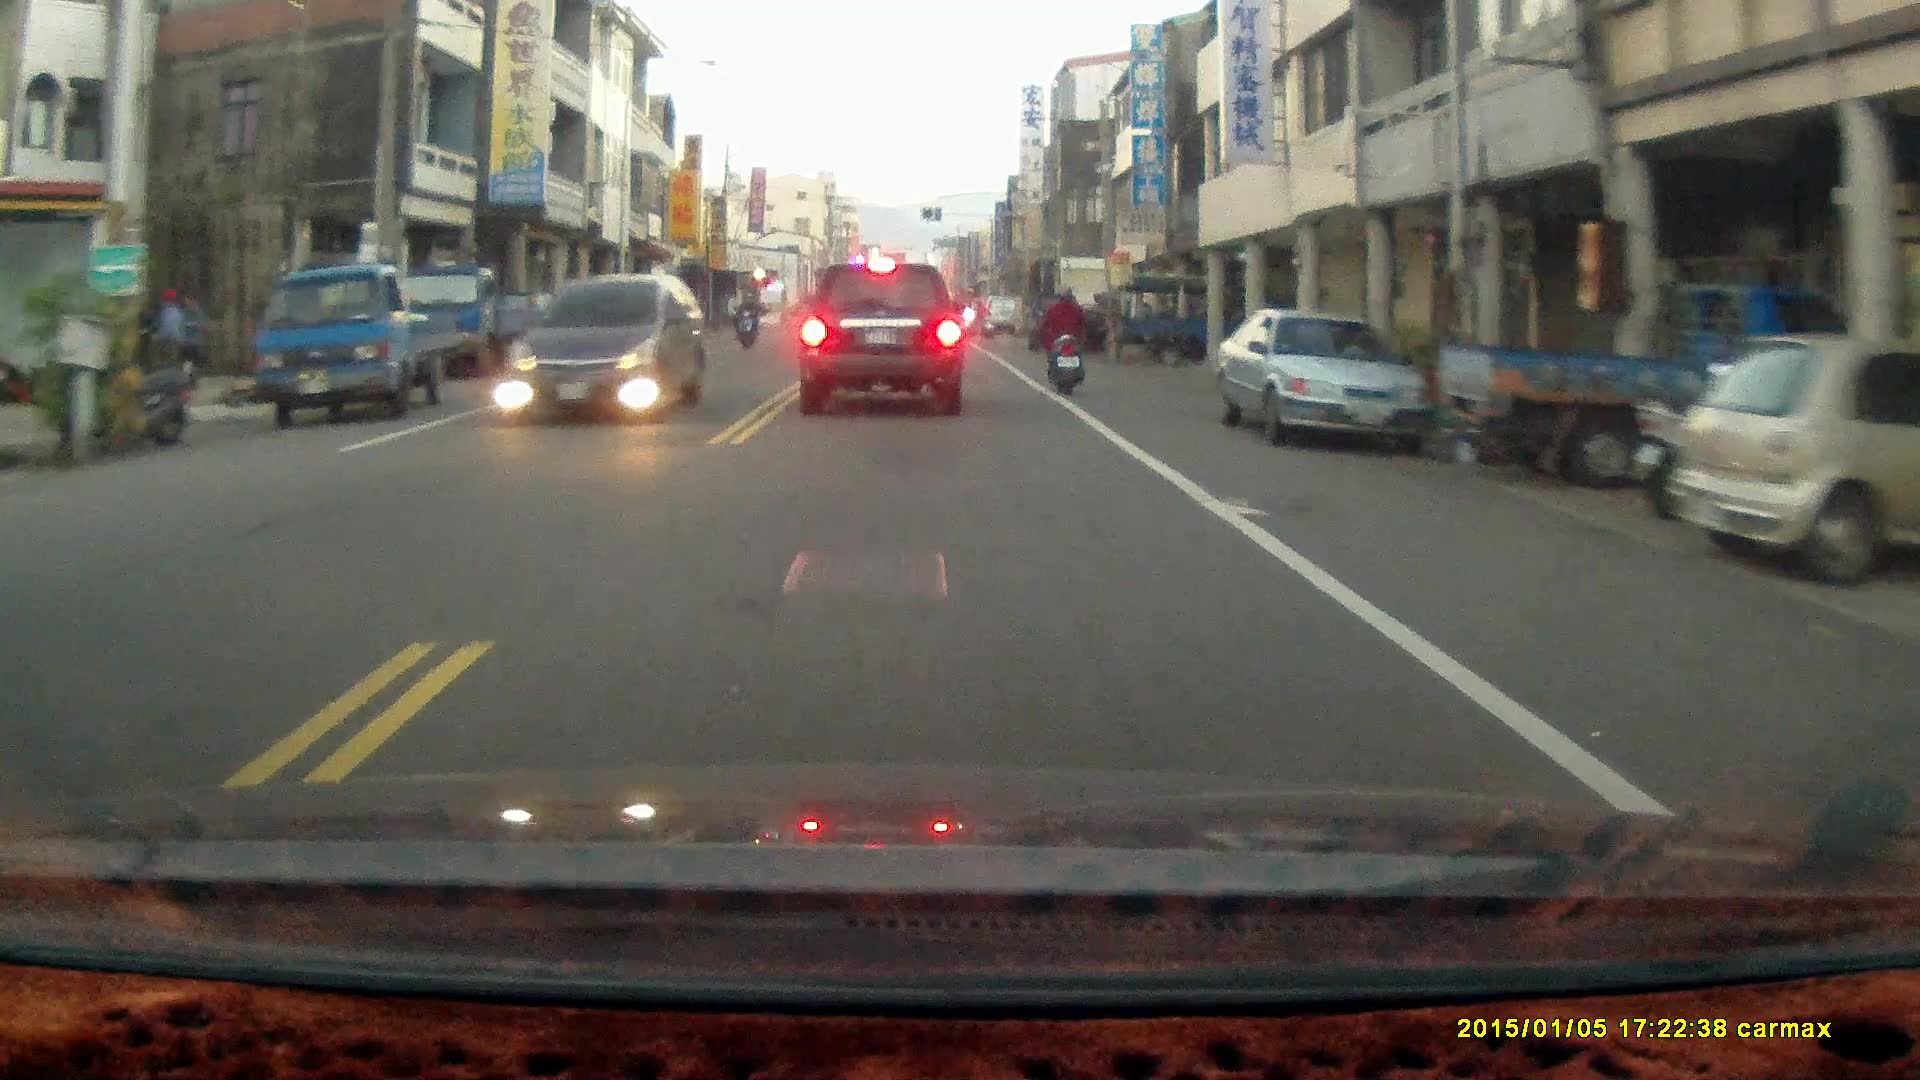pedestrian: (153, 286, 183, 394), (180, 290, 210, 391)
rider: (1040, 282, 1086, 395), (731, 294, 759, 349), (963, 297, 997, 340)
vehicle: (1424, 275, 1827, 491), (1664, 329, 1920, 589), (253, 263, 469, 430), (507, 275, 707, 427), (1216, 311, 1431, 451), (794, 259, 966, 423), (395, 255, 551, 373), (1118, 274, 1288, 365)
